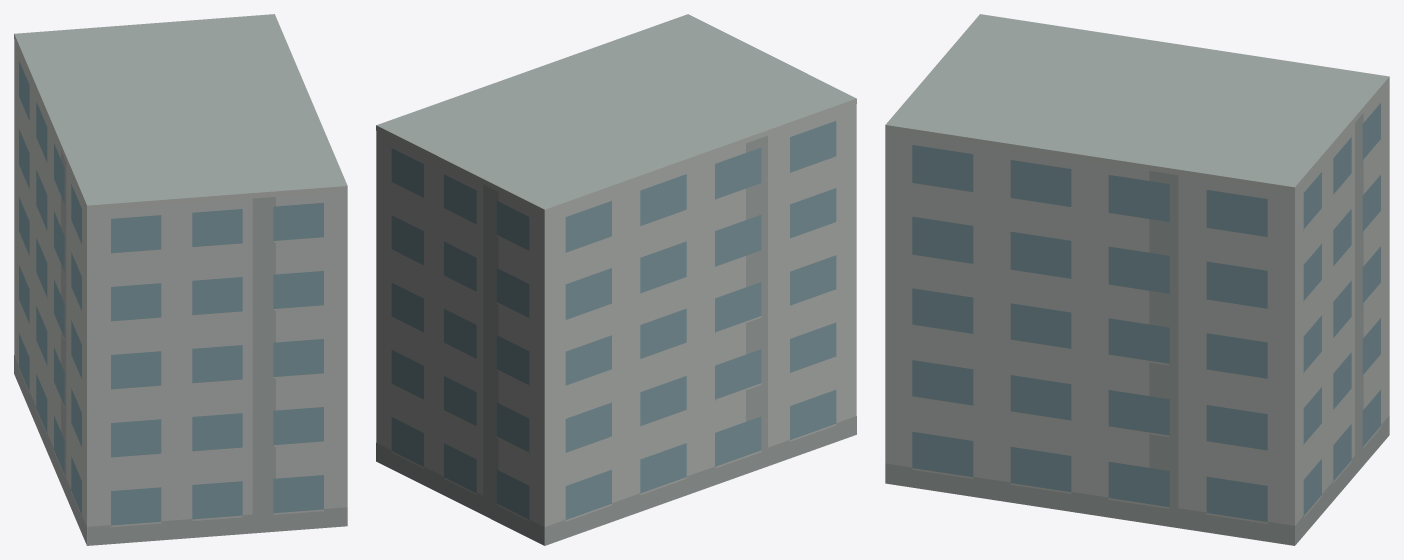
Rendered from residential-54e462ca-50e2-45a1-a9c3-7636611a73f8.glb.
The picture shows the model from 3 angles, left to right: view 1: azimuth 30°, elevation 25°; view 2: azimuth 150°, elevation 25°; view 3: azimuth 270°, elevation 25°; orthographic projection. The views are drawn at different scales.
Parts seen in each view (by area): view 1: residential-54e462ca-50e2-45a1-a9c3-7636611a73f8.tmp; view 2: residential-54e462ca-50e2-45a1-a9c3-7636611a73f8.tmp; view 3: residential-54e462ca-50e2-45a1-a9c3-7636611a73f8.tmp.
Boxes of the visible parts, x1,y1,x2,y2 form: residential-54e462ca-50e2-45a1-a9c3-7636611a73f8.tmp: (14,14,347,545); residential-54e462ca-50e2-45a1-a9c3-7636611a73f8.tmp: (376,14,856,545); residential-54e462ca-50e2-45a1-a9c3-7636611a73f8.tmp: (885,14,1389,545).
Size of the model in its own units: 15.82 by 15.25 by 19.45.
